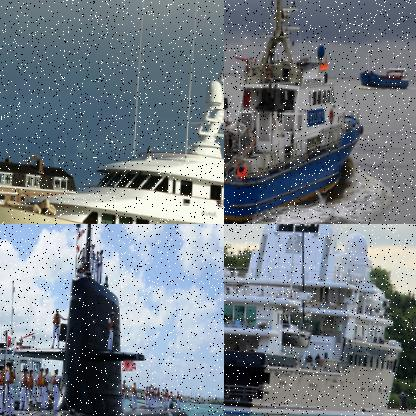Merchant Ship: (358, 49, 411, 89)
Patrol Boat: (224, 0, 372, 223)
Submarine: (0, 224, 209, 415)
Tugboat: (0, 274, 55, 415)
Yacht: (0, 46, 223, 223), (224, 224, 413, 415)
